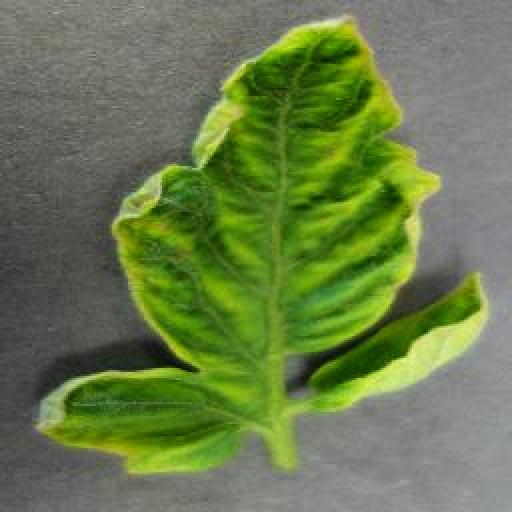disease_tomato: (30, 12, 488, 474)
